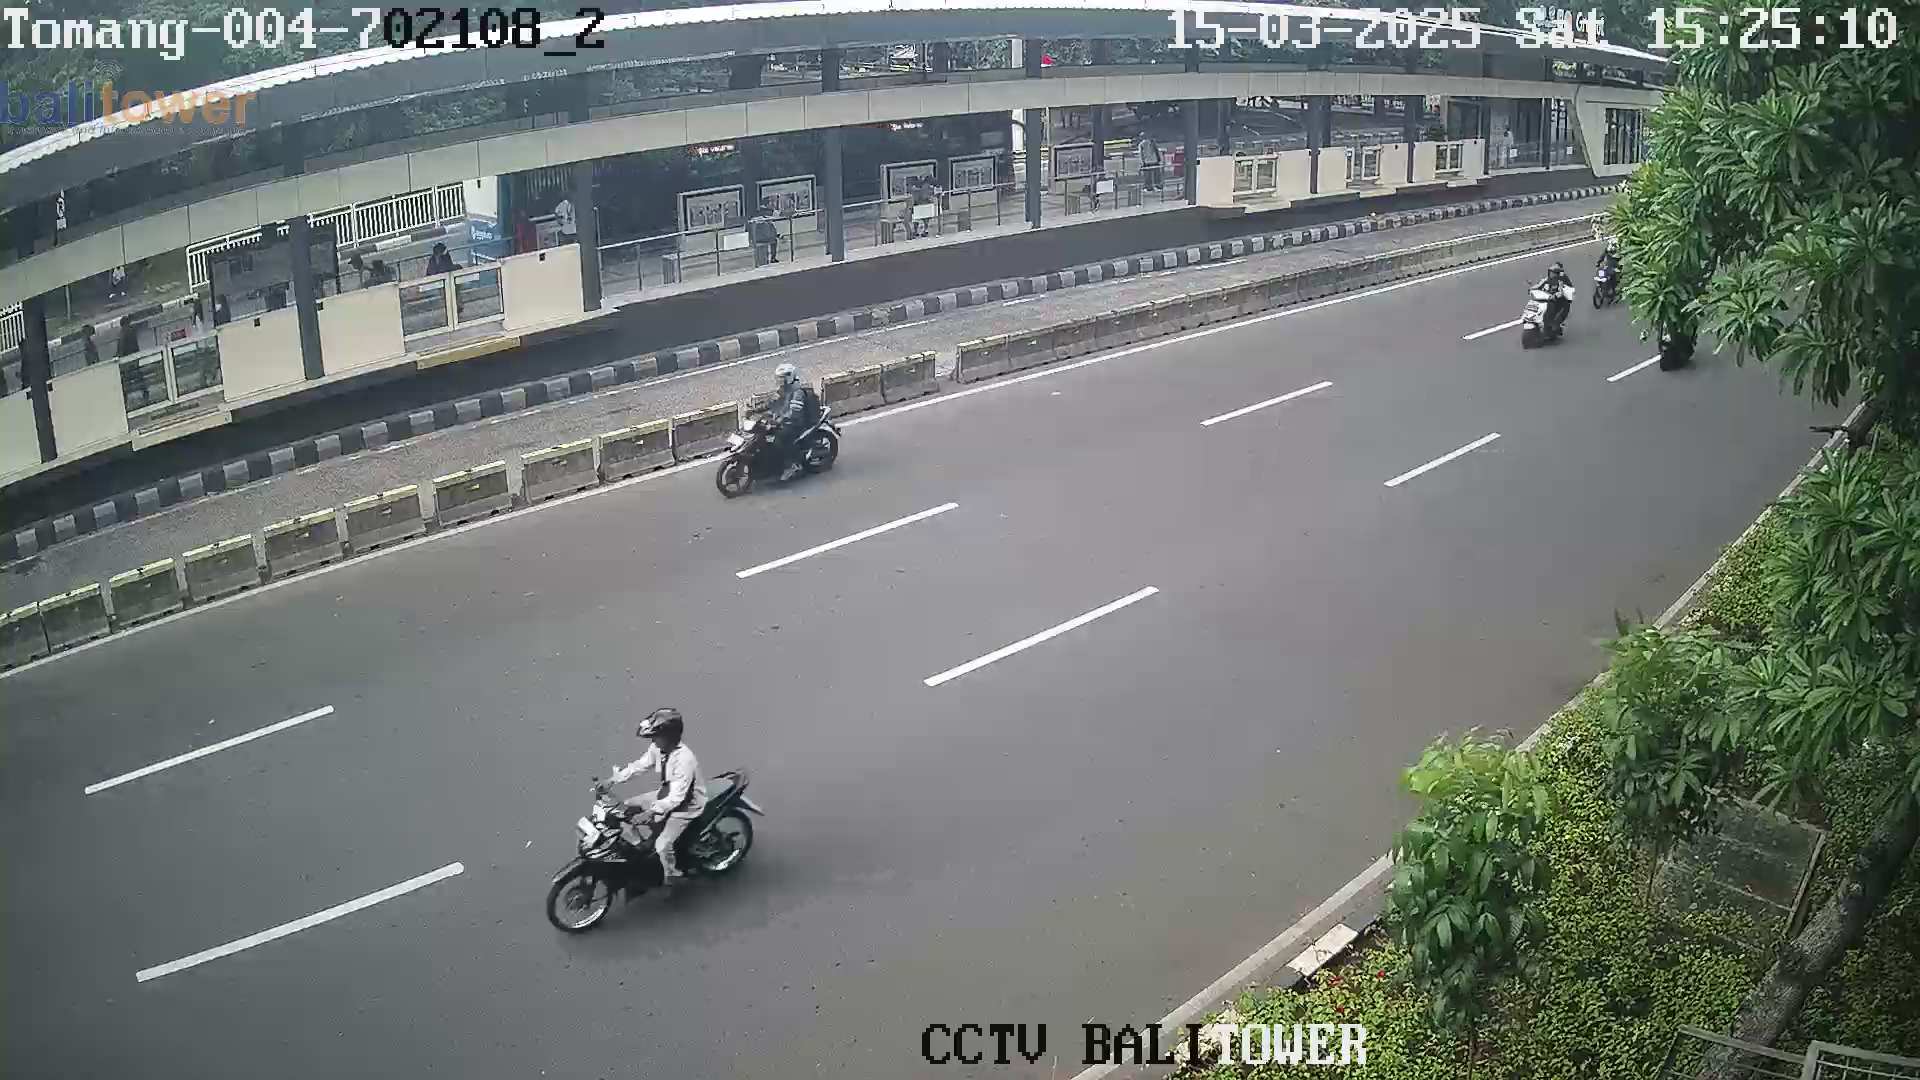half-face helmet: (635, 706, 690, 755), (770, 359, 802, 390)
